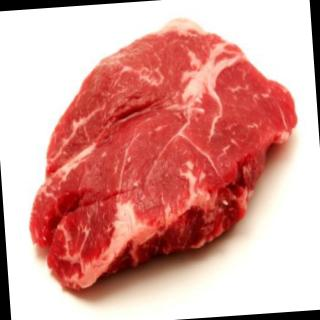Daging Sapi: (17, 11, 308, 293)
